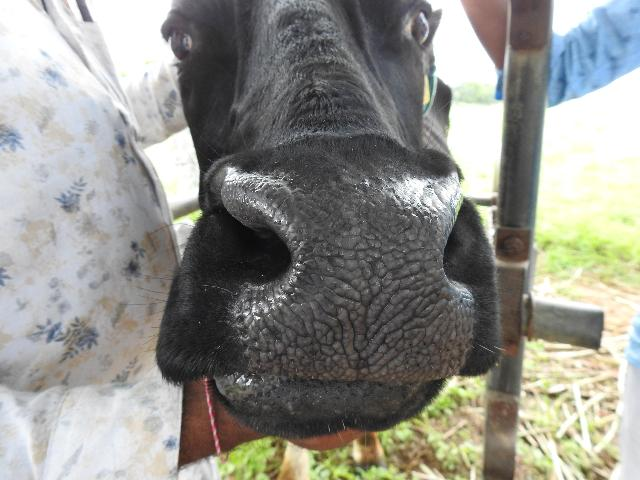Muzzle: (284, 188, 444, 373)
